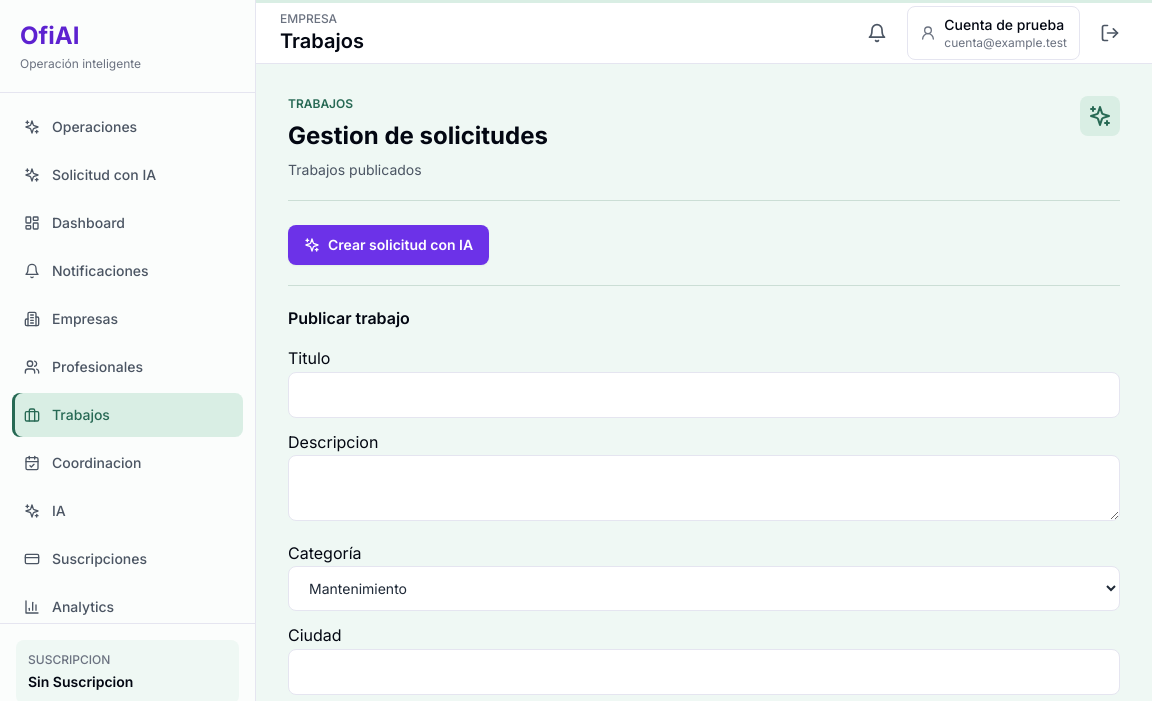
Scenario: Pantallas conectadas a la API › publica un trabajo con la categoria Energía solar
In the field labelled "Titulo": (704, 395) [288,372,1120,418], type "Reparacion del tablero"
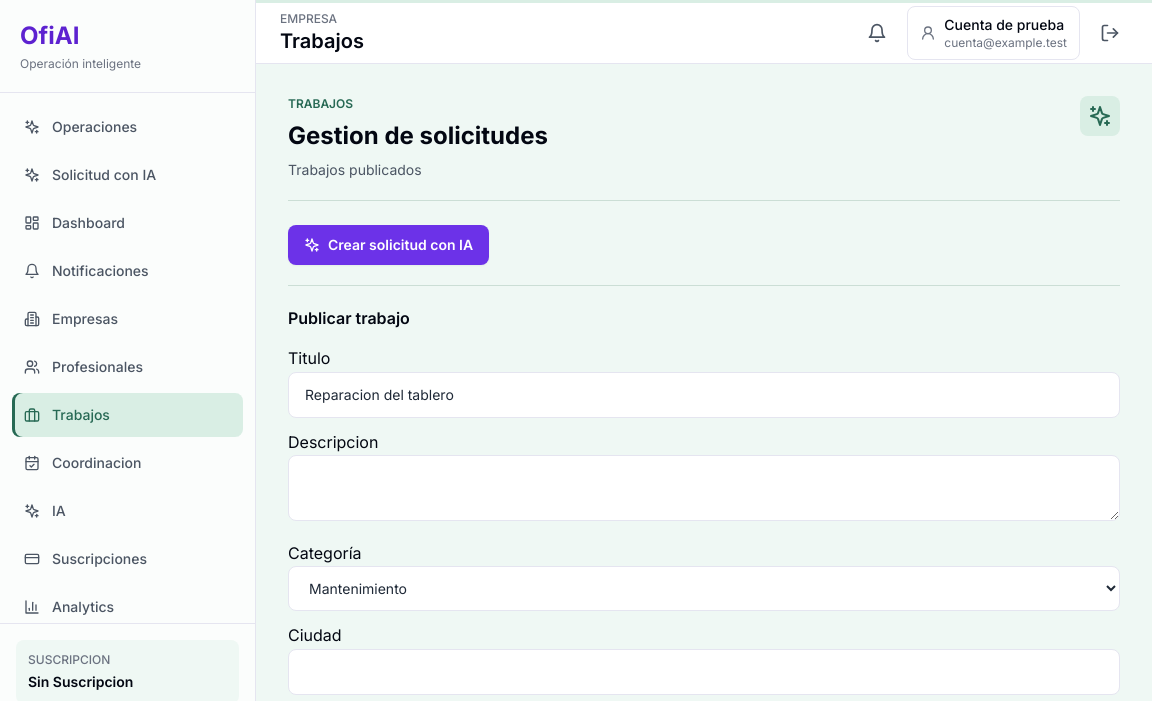
In the text box labelled "Descripcion": (704, 488) [288,455,1120,521], type "Reparar el tablero principal del edificio"
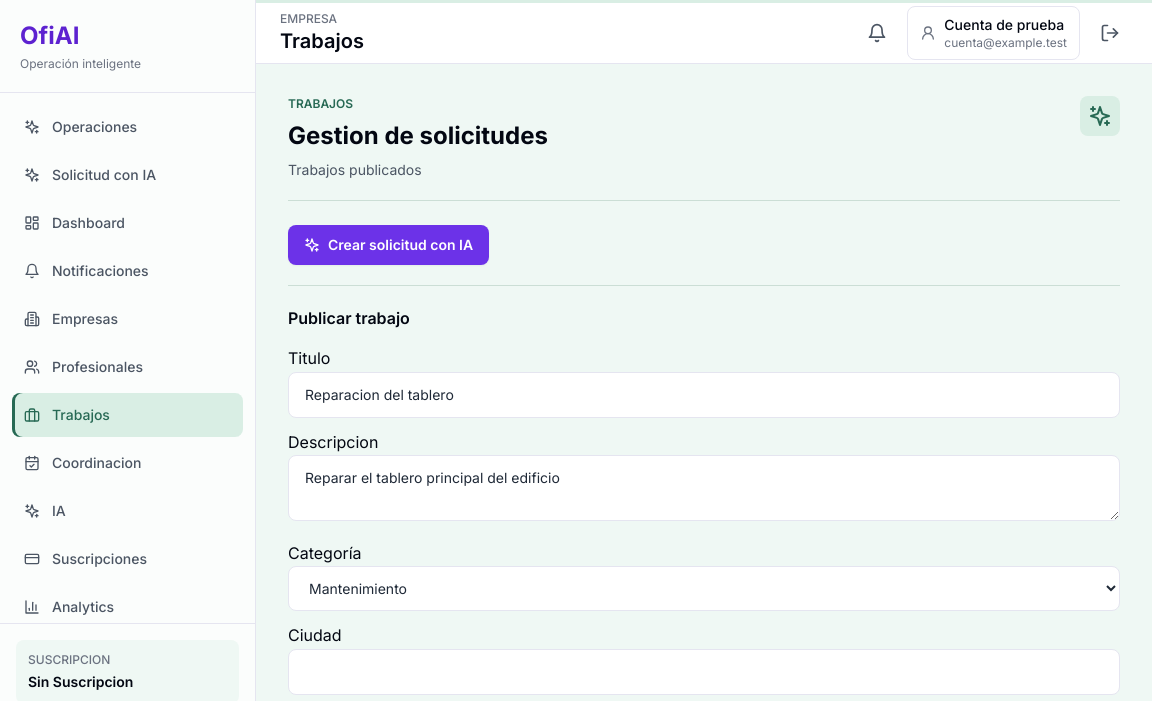
In the field labelled "Ciudad": (704, 672) [288,649,1120,695], type "Rosario"
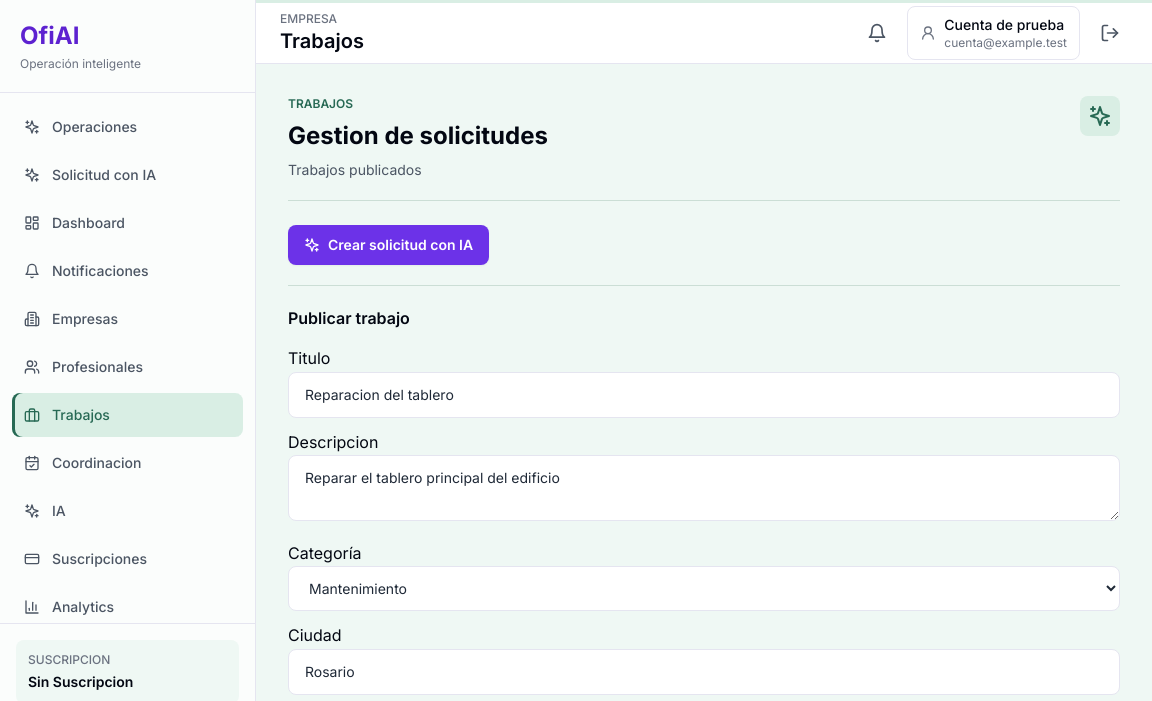
Select "Energía solar" in the dropdown labelled "Categoría": (704, 589) [288,566,1120,611]
(page scrolled)
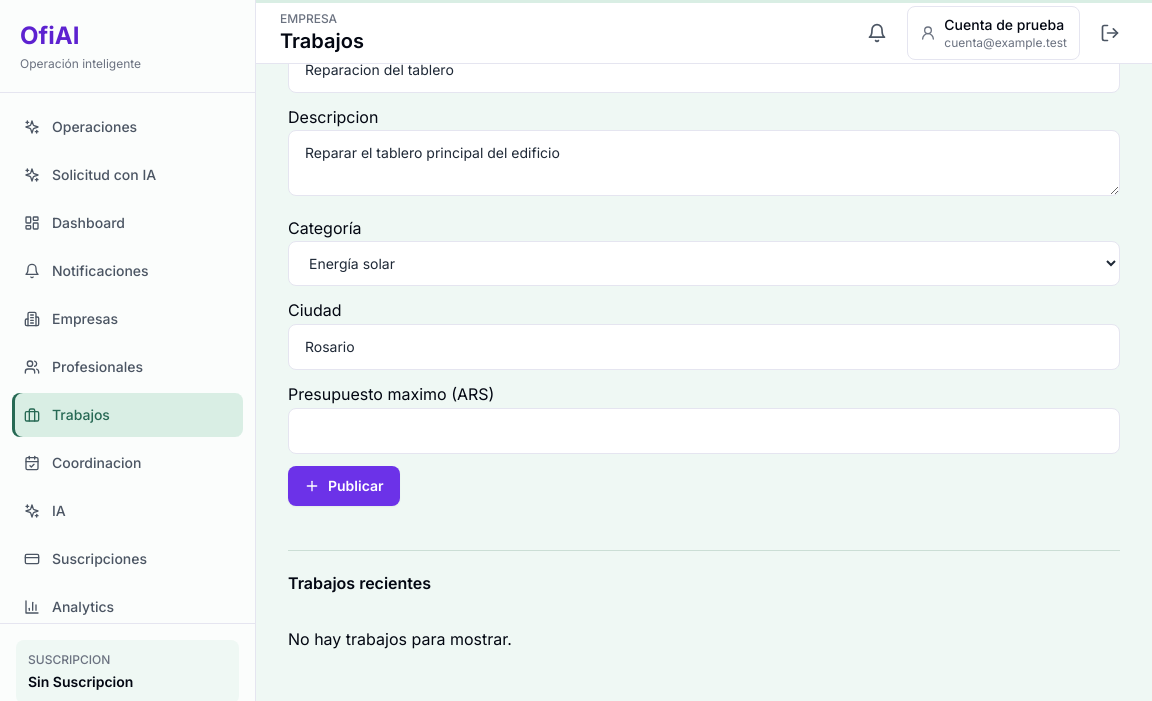
Click the button "Publicar": (344, 486) [288,466,400,506]
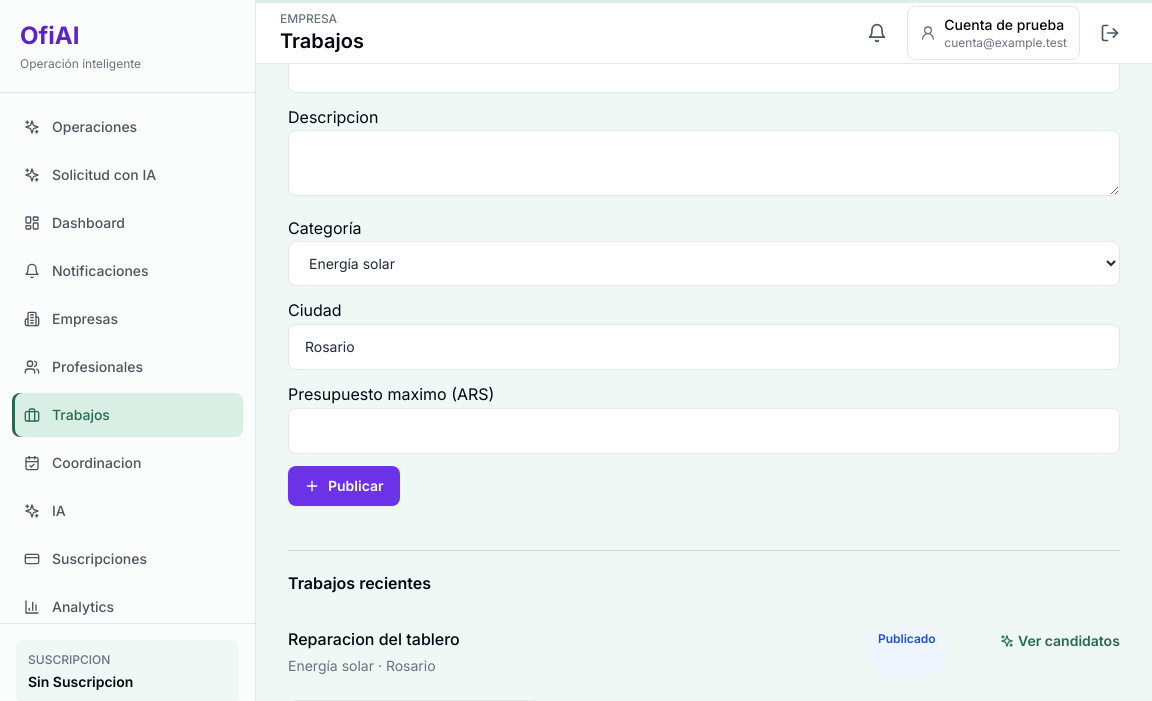
Check: the text "Reparacion del tablero" is shown, box [288,629,460,649]
